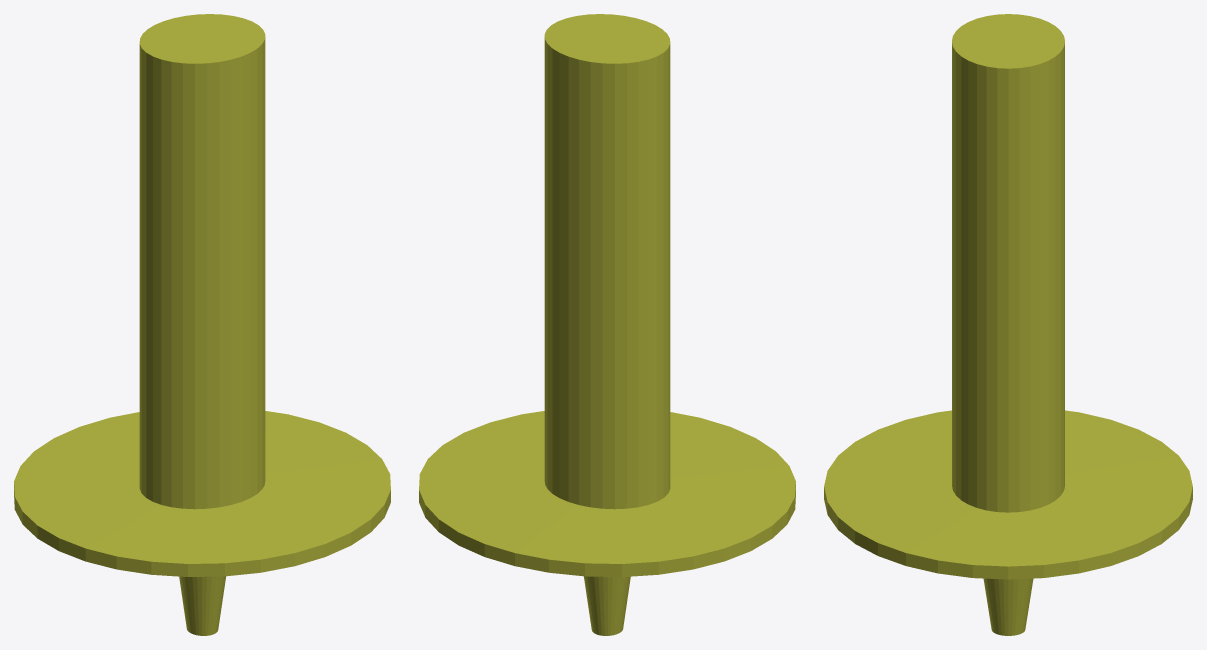
The model's file is FIL1.fbx.
3 views of the same model, side by side, from view 1: azimuth 30°, elevation 25°; view 2: azimuth 150°, elevation 25°; view 3: azimuth 270°, elevation 25° (orthographic).
Parts seen in each view (by area): view 1: Cylinder.006; view 2: Cylinder.006; view 3: Cylinder.006.
Part boxes in pixels (left/top/right/bottom): Cylinder.006: left=14, top=14, right=390, bottom=635; Cylinder.006: left=419, top=14, right=795, bottom=635; Cylinder.006: left=824, top=14, right=1192, bottom=635.
Size of the model in its own units: 303 by 518 by 295.
